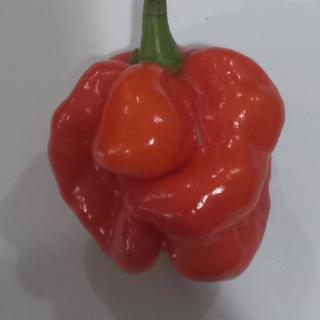Grade-B: (43, 39, 290, 285)
